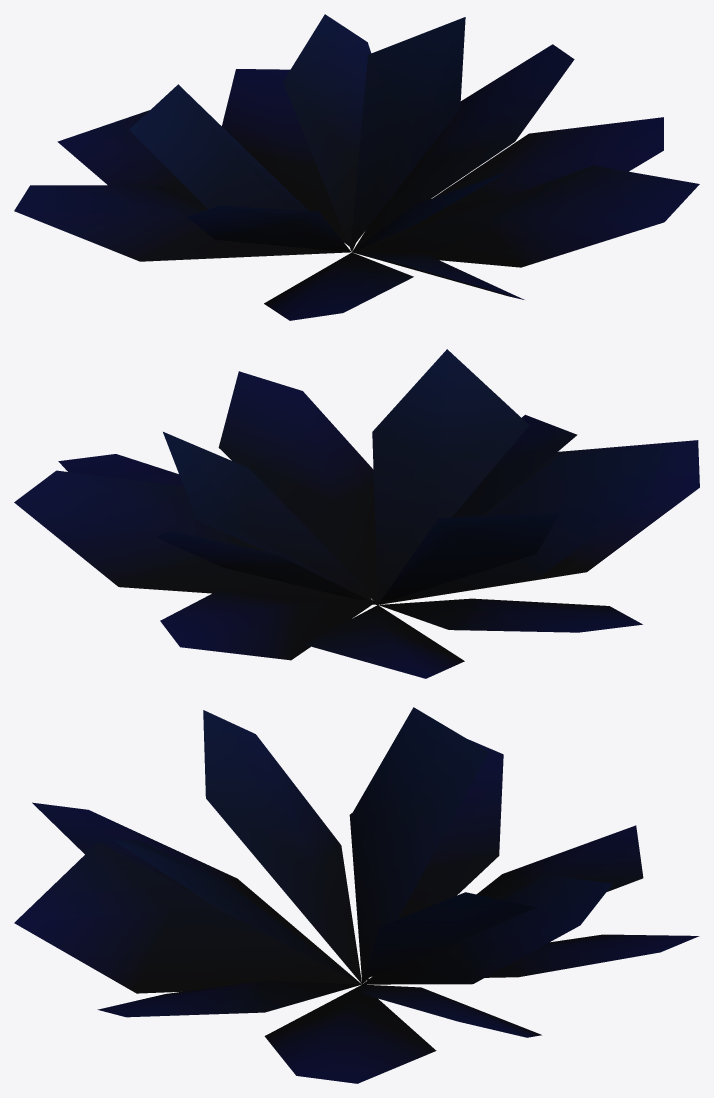
The model's file is TSI_Plant_09B.fbx.
The picture shows the model from 3 angles, top to bottom: view 1: azimuth 30°, elevation 25°; view 2: azimuth 150°, elevation 25°; view 3: azimuth 270°, elevation 25°; orthographic projection. The views are drawn at different scales.
Visible parts, largest first — view 1: TSI_Plant_09B_LOD0; view 2: TSI_Plant_09B_LOD0; view 3: TSI_Plant_09B_LOD0.
Part boxes in pixels (<box>): TSI_Plant_09B_LOD0: <box>14,14,699,320</box>; TSI_Plant_09B_LOD0: <box>14,349,699,678</box>; TSI_Plant_09B_LOD0: <box>14,707,699,1083</box>.
Size of the model in its own units: 94.74 by 24.2 by 84.13.
